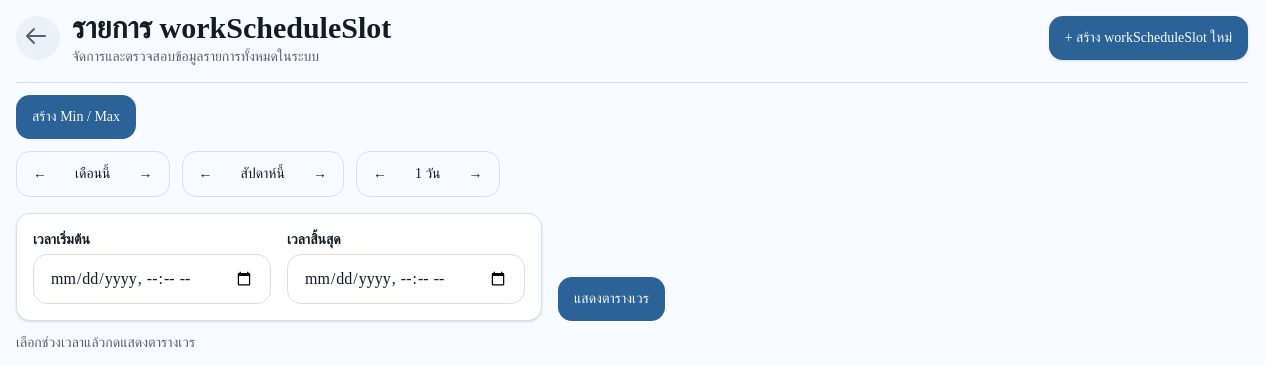
Test: Admin slot calendar period controls › moves day arrows repeatedly from the current draft across period and year boundaries
The width and height of the screenshot is (1265, 365).
Check: the button "แสดงตารางเวร" is shown, box [558,277,665,321]
Step 1. Click the button named "วันก่อนหน้า" → (380, 174), box [361,156,399,192]
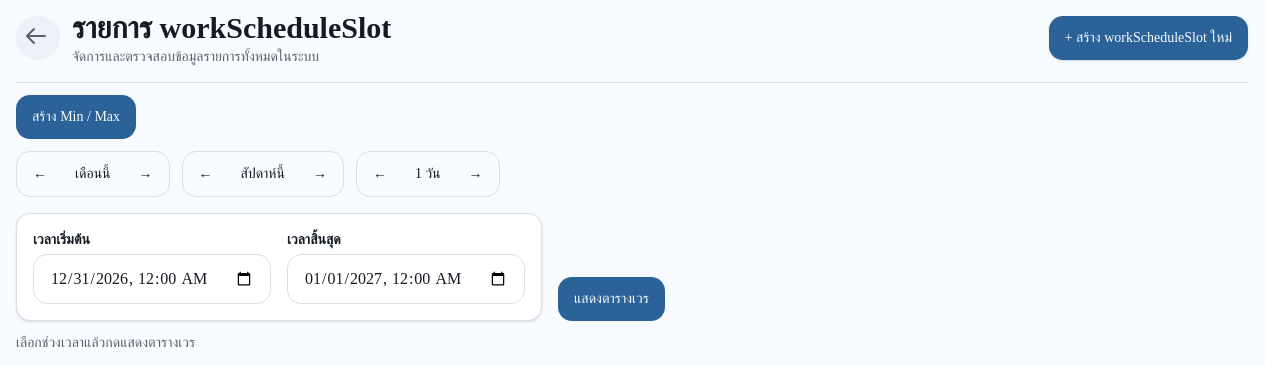
Check: the number of fields is 2, box [33,254,271,304]; [287,254,525,304]
Check: the field below "เวลาเริ่มต้น" holds "2026-12-31T00:00", box [33,254,271,304]
Check: the field below "เวลาสิ้นสุด" holds "2027-01-01T00:00", box [287,254,525,304]
Step 2. Click the button named "วันก่อนหน้า" → (380, 174), box [361,156,399,192]
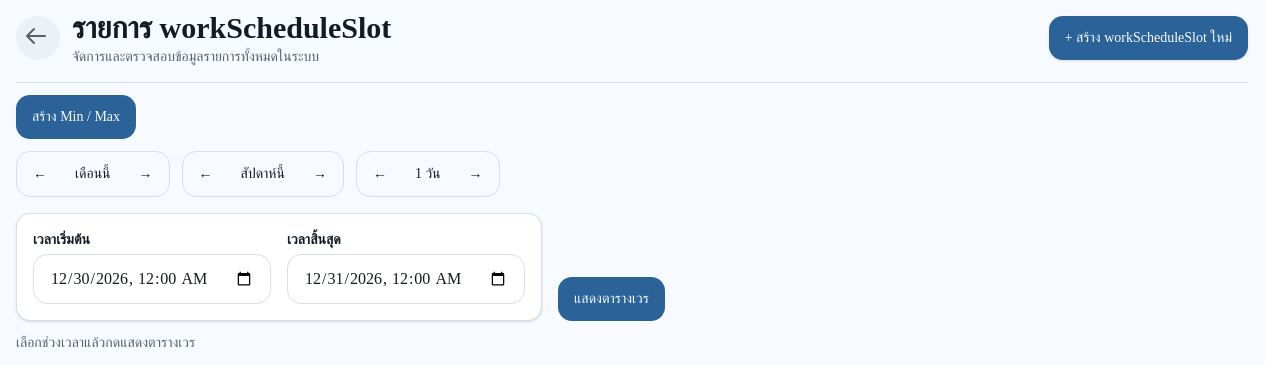
Check: the number of fields is 2, box [33,254,271,304]; [287,254,525,304]
Check: the field below "เวลาเริ่มต้น" holds "2026-12-30T00:00", box [33,254,271,304]
Check: the field below "เวลาสิ้นสุด" holds "2026-12-31T00:00", box [287,254,525,304]
Step 3. Click the button named "วันถัดไป" → (476, 174), box [456,156,494,192]
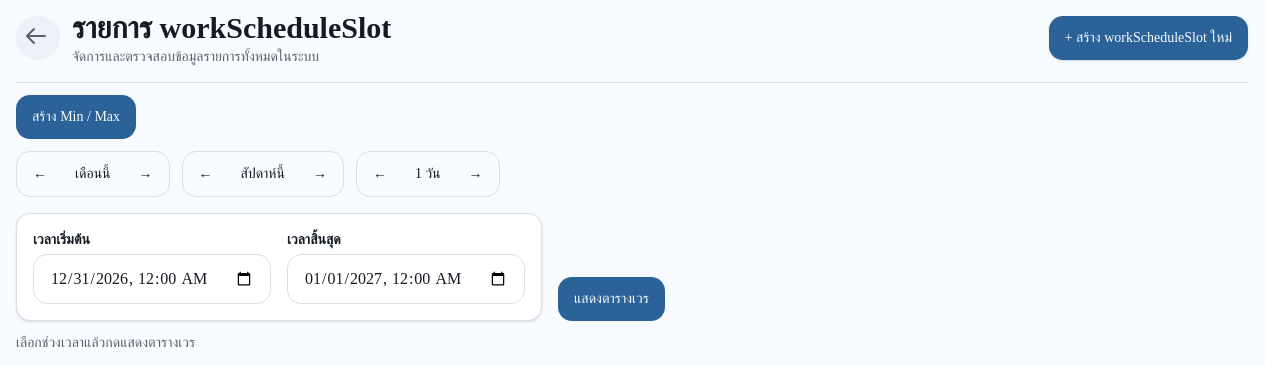
Check: the number of fields is 2, box [33,254,271,304]; [287,254,525,304]
Check: the field below "เวลาเริ่มต้น" holds "2026-12-31T00:00", box [33,254,271,304]
Check: the field below "เวลาสิ้นสุด" holds "2027-01-01T00:00", box [287,254,525,304]
Step 4. Click the button named "วันถัดไป" → (476, 174), box [456,156,494,192]
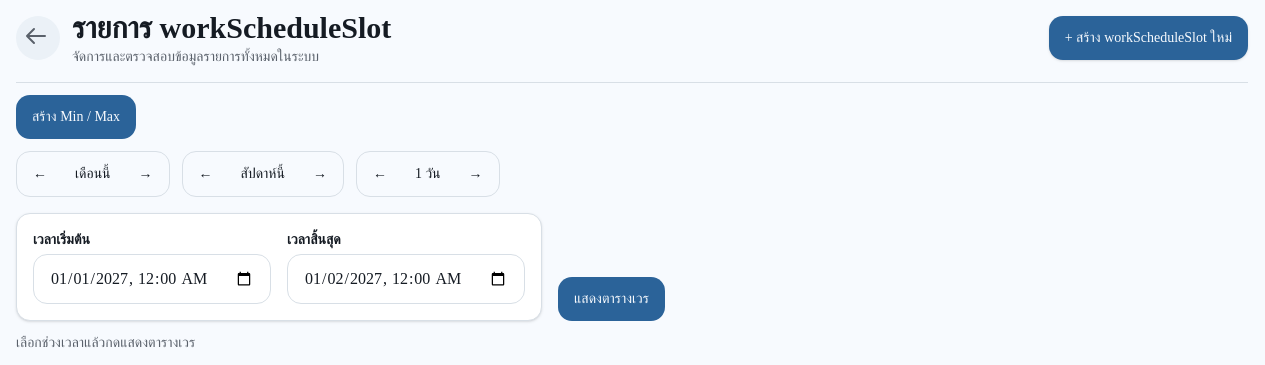
Check: the number of fields is 2, box [33,254,271,304]; [287,254,525,304]
Check: the field below "เวลาเริ่มต้น" holds "2027-01-01T00:00", box [33,254,271,304]
Check: the field below "เวลาสิ้นสุด" holds "2027-01-02T00:00", box [287,254,525,304]
Step 5. Click the button named "วันถัดไป" → (476, 174), box [456,156,494,192]
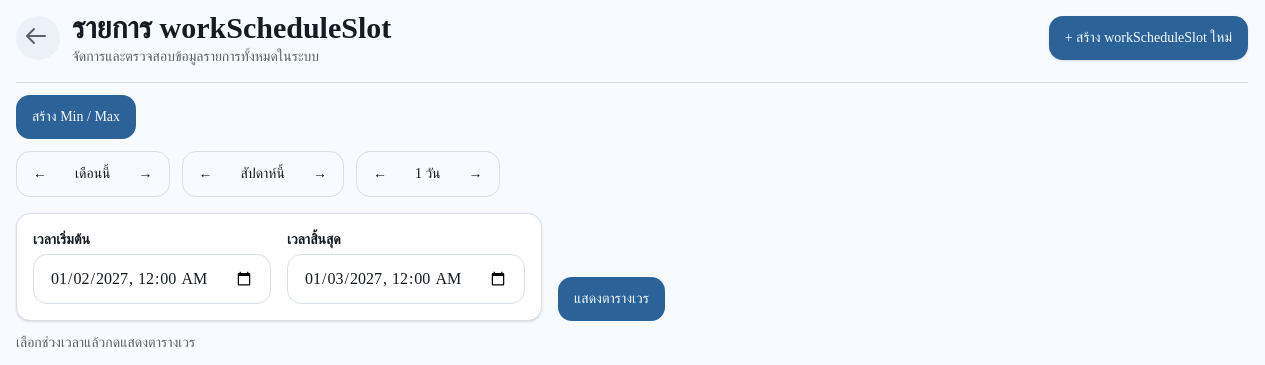
Check: the number of fields is 2, box [33,254,271,304]; [287,254,525,304]
Check: the field below "เวลาเริ่มต้น" holds "2027-01-02T00:00", box [33,254,271,304]
Check: the field below "เวลาสิ้นสุด" holds "2027-01-03T00:00", box [287,254,525,304]
Step 6. Click the button named "วันถัดไป" → (476, 174), box [456,156,494,192]
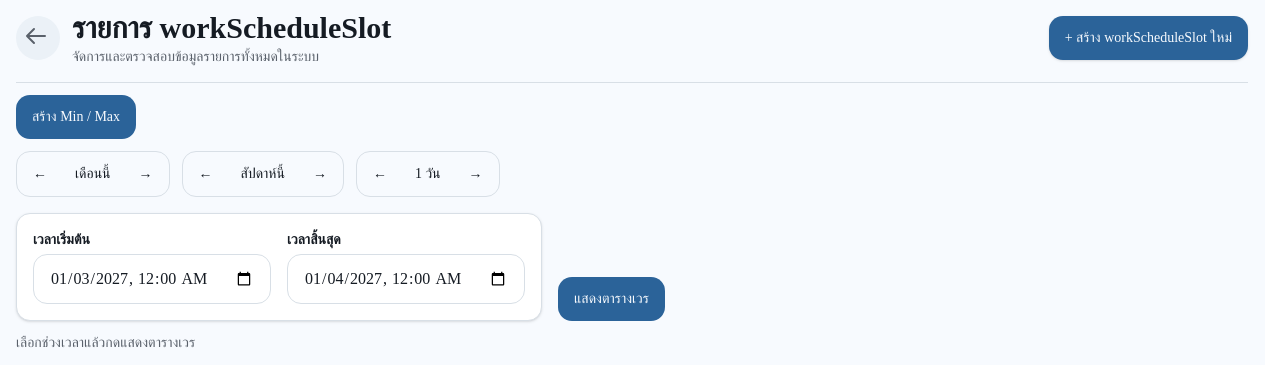
Check: the number of fields is 2, box [33,254,271,304]; [287,254,525,304]
Check: the field below "เวลาเริ่มต้น" holds "2027-01-03T00:00", box [33,254,271,304]
Check: the field below "เวลาสิ้นสุด" holds "2027-01-04T00:00", box [287,254,525,304]
